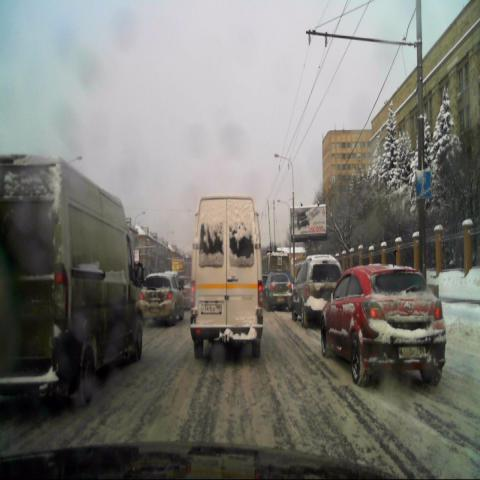6_6: (415, 169, 433, 200)
